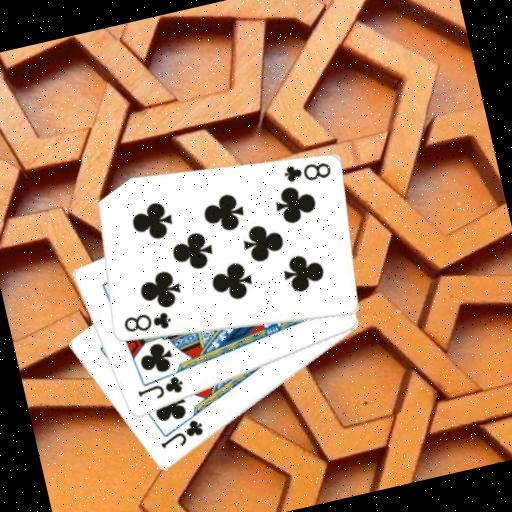8C: (118, 305, 174, 341), (279, 154, 335, 189)
JC: (153, 416, 208, 454), (133, 372, 187, 406)
